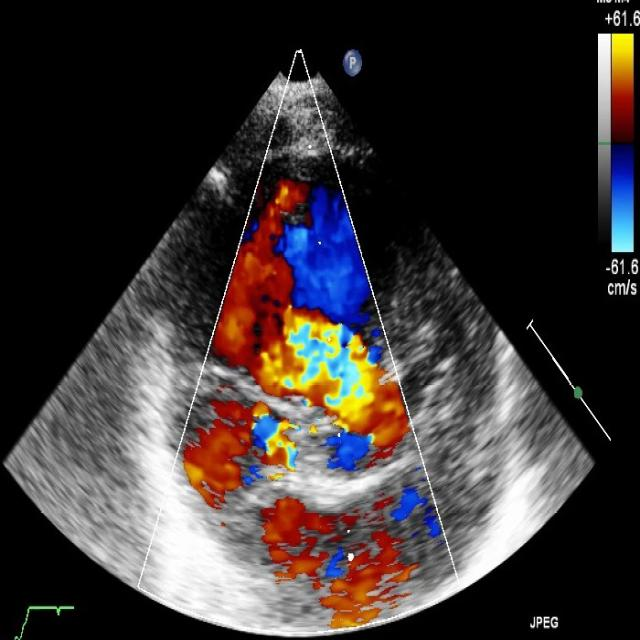VSDType2: (218, 180, 332, 391)
